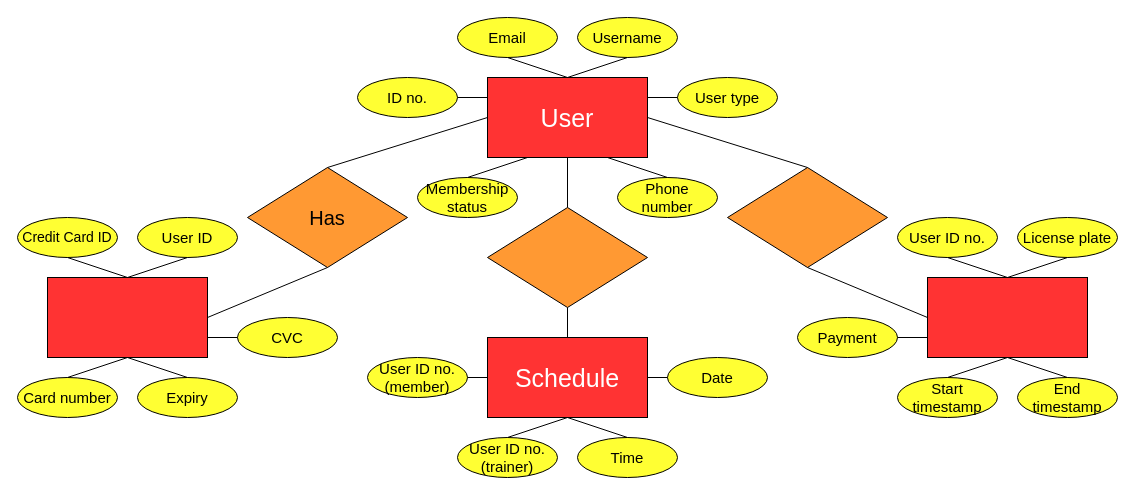
The diagram is 1135 pixels wide and 495 high, and some of its shapes have lost their labels. Each missing label, with the centre of its shape:
"Creates" goes at point 567,257.
"Credit Card" goes at point 127,317.
"Parking" goes at point 1007,317.
"Pays for" goes at point 807,217.
